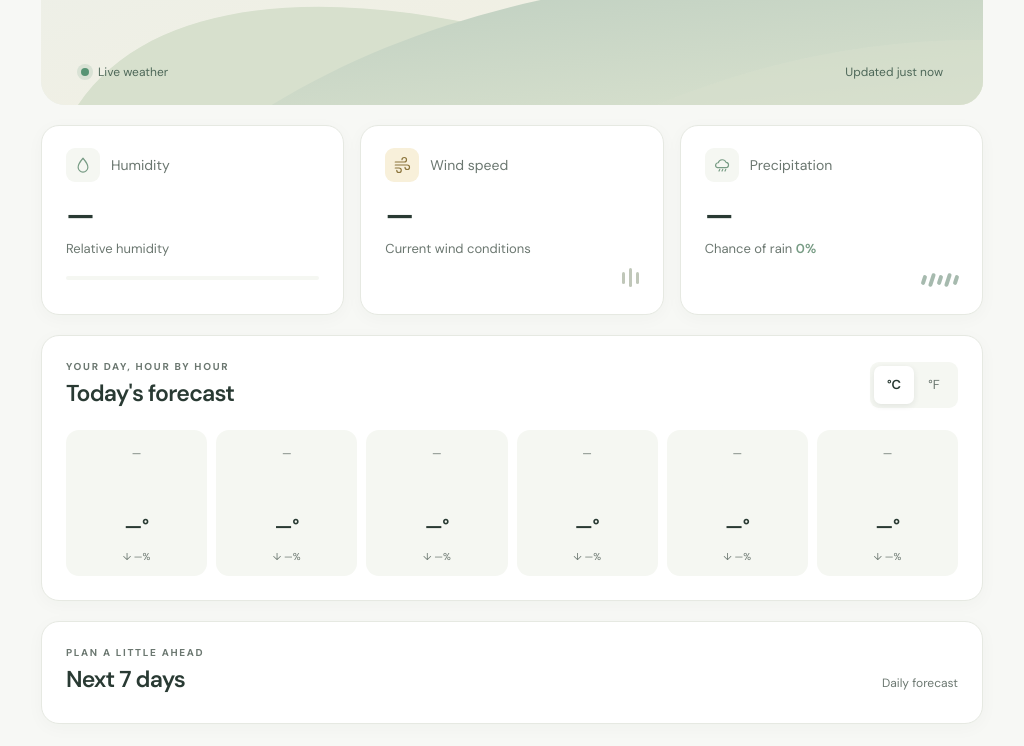
Scenario: WeatherDashboard › switches temperature units and color themes
This screenshot has width=1024, height=746.
Later steps or results of the test are not shown.
(page scrolled)
Click the button named "Show Fahrenheit" at (934, 385), box x1=914 y1=366 x2=954 y2=404
(page scrolled)
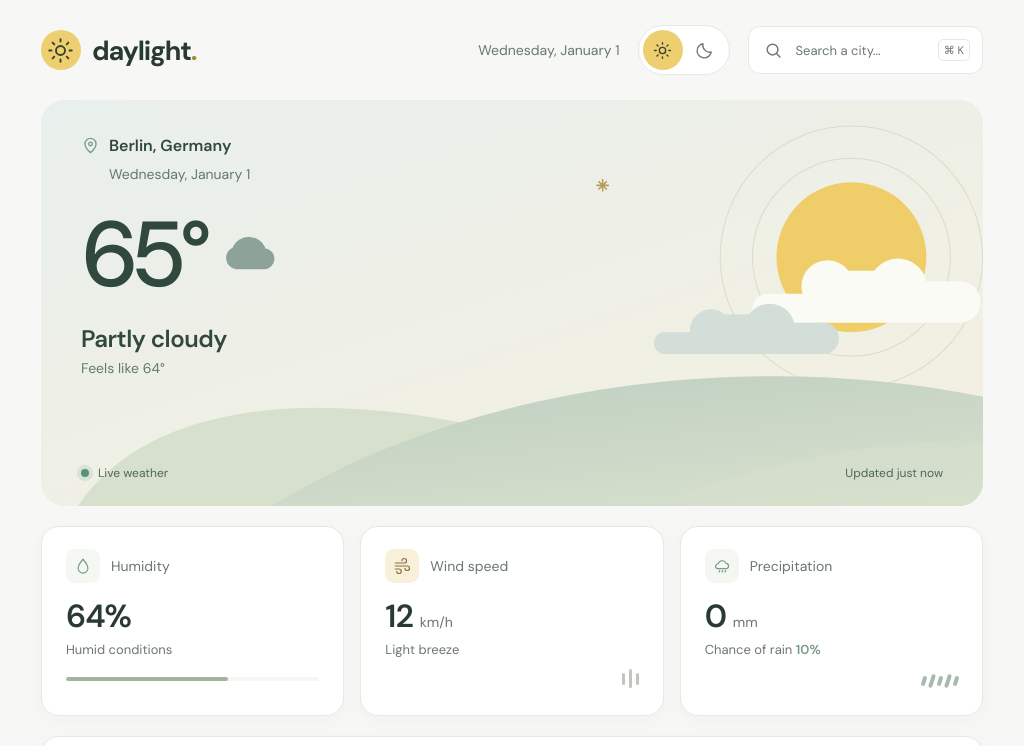
Expected: the text "65°" is shown, x1=81 y1=209 x2=205 y2=302
Expected: the text "Feels like 64°" is shown, x1=81 y1=359 x2=165 y2=377
